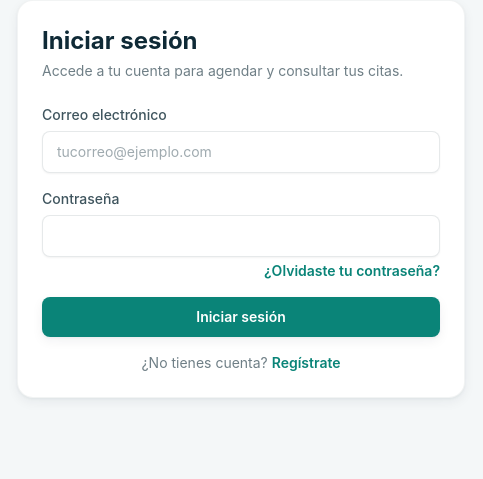
Test case: <Login /> › muestra el error devuelto por Supabase Auth y rehabilita el botón
This screenshot has width=483, height=479.
Type "paciente@test.com" into the field labelled "Correo electrónico".
click(241, 152); type("paciente@test.com")  # box [42,131,440,173]
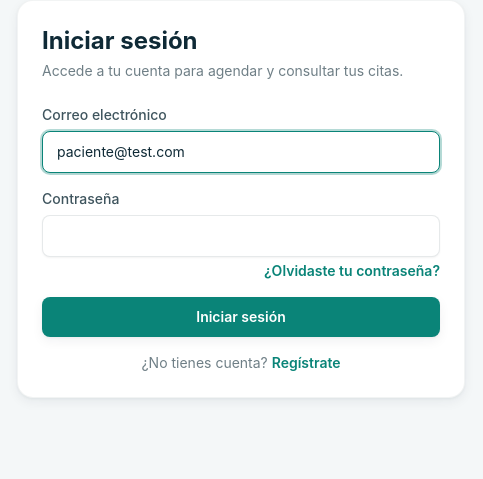
Type "wrongpass" into the password field labelled "Contraseña".
click(241, 236); type("wrongpass")  # box [42,215,440,257]
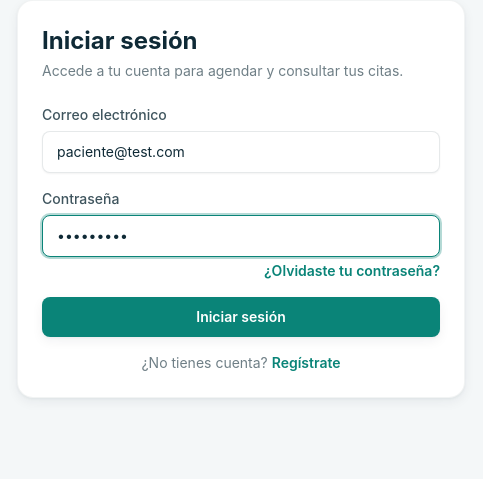
Click the button "Iniciar sesión".
click(241, 317)  # box [42,297,440,337]
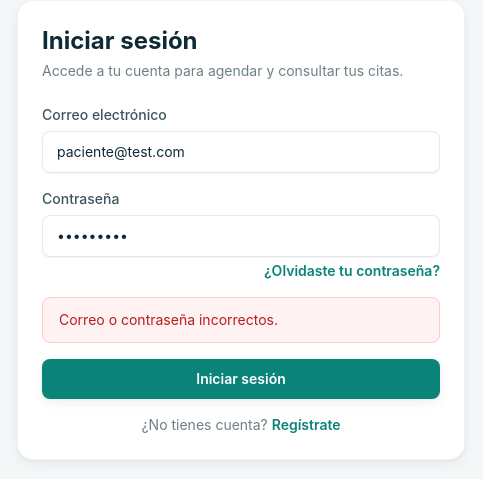
expect the button "Iniciar sesión" is enabled: met, box [42,359,440,399]
expect the message reads "Correo o contraseña incorrectos.": met, box [59,311,278,328]
